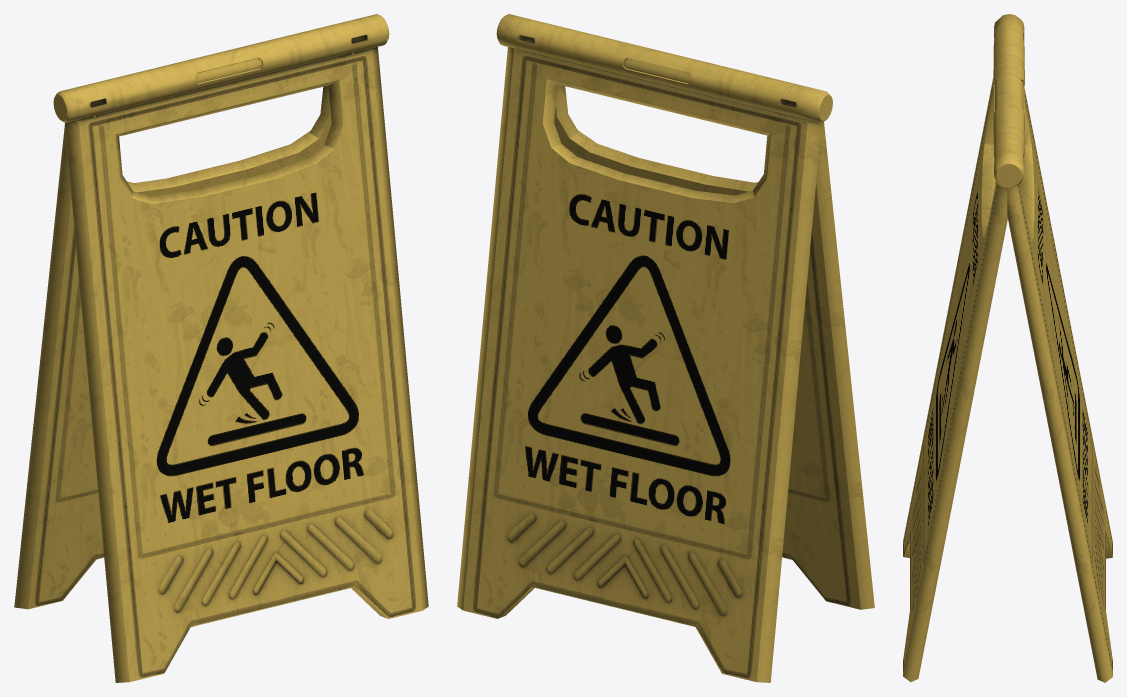
The model's file is the_wet_floor_sign.glb.
3 renders of one model, left to right at view 1: azimuth 30°, elevation 25°; view 2: azimuth 150°, elevation 25°; view 3: azimuth 270°, elevation 25°, orthographic. The views are drawn at different scales.
Visible parts, largest first — view 1: lowpoly; view 2: lowpoly; view 3: lowpoly.
Part boxes in pixels (x1,y1,x2,y2): lowpoly: (14,14,428,682); lowpoly: (457,14,874,682); lowpoly: (903,14,1112,682).
Size of the model in its own units: 25.69 by 42.22 by 15.31.
Materials: 1 (1 with a texture image).
